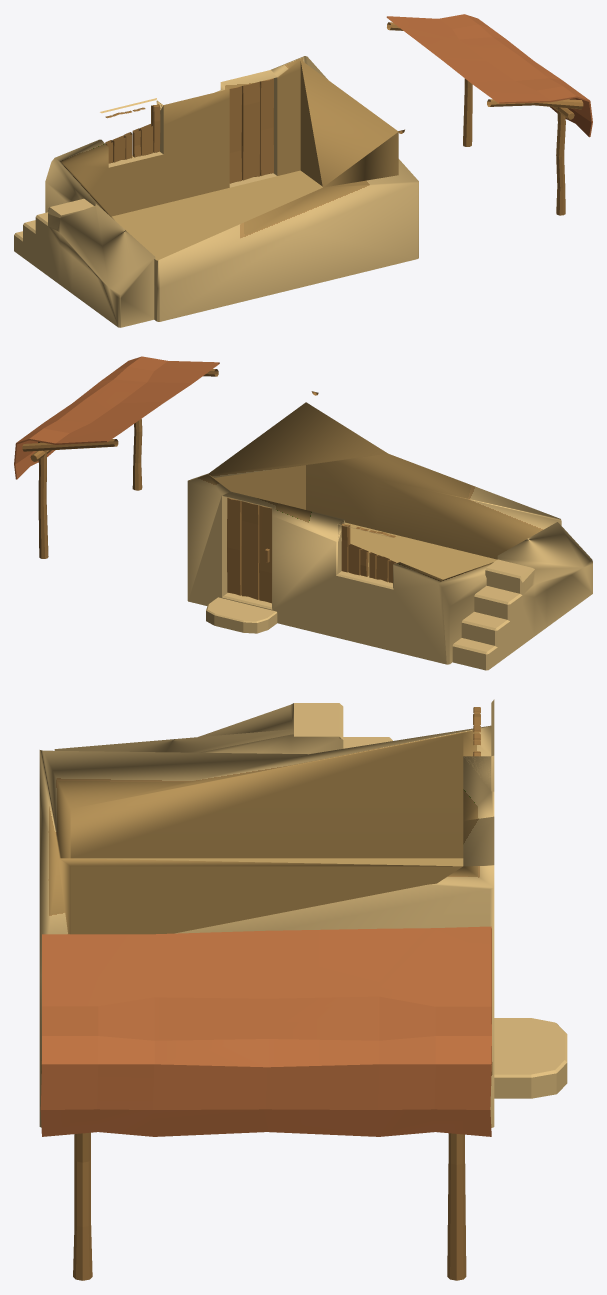
The model's file is House1_broken2_.fbx.
3 renders of one model, top to bottom at view 1: azimuth 30°, elevation 25°; view 2: azimuth 150°, elevation 25°; view 3: azimuth 270°, elevation 25°, orthographic. The views are drawn at different scales.
Visible parts, largest first — view 1: House1; view 2: House1; view 3: House1.
Part boxes in pixels (x1,y1,x2,y2): House1: (14,14,592,327); House1: (14,356,592,670); House1: (39,699,567,1280).
Size of the model in its own units: 1048 by 298 by 510.
